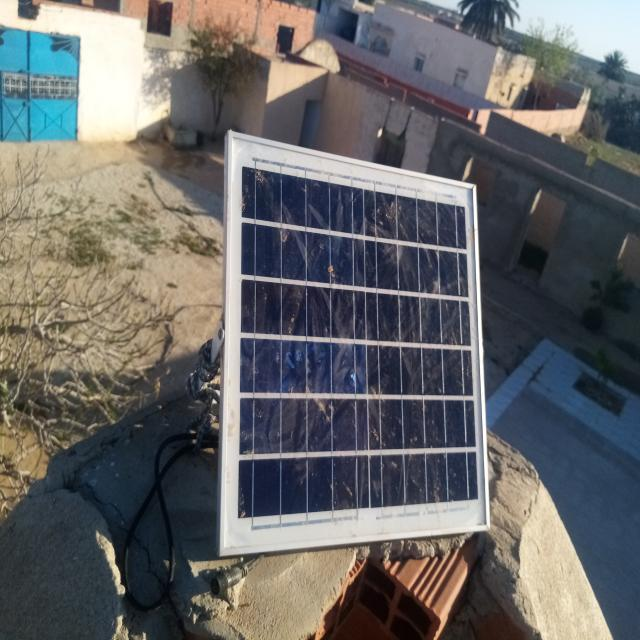faulty: (223, 131, 494, 556)
